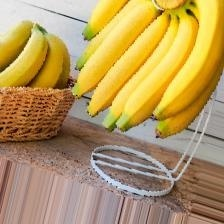banana: (39, 6, 209, 186)
